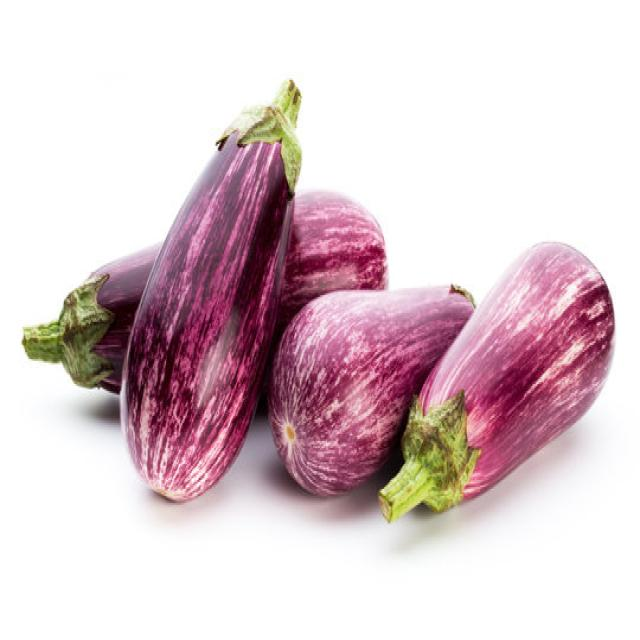Eggplant: (118, 76, 302, 502), (377, 238, 615, 523), (267, 281, 475, 498), (21, 238, 162, 395), (276, 187, 388, 325)
